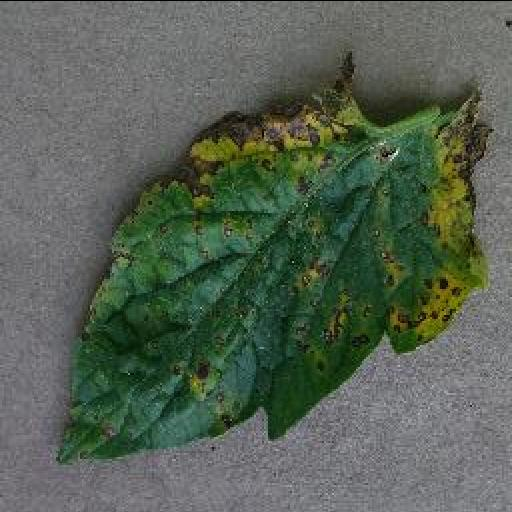disease_tomato: (52, 62, 494, 464)
